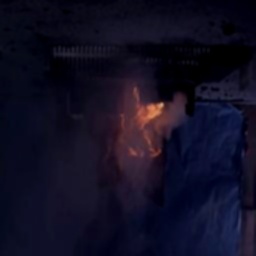fire: (124, 99, 168, 165)
